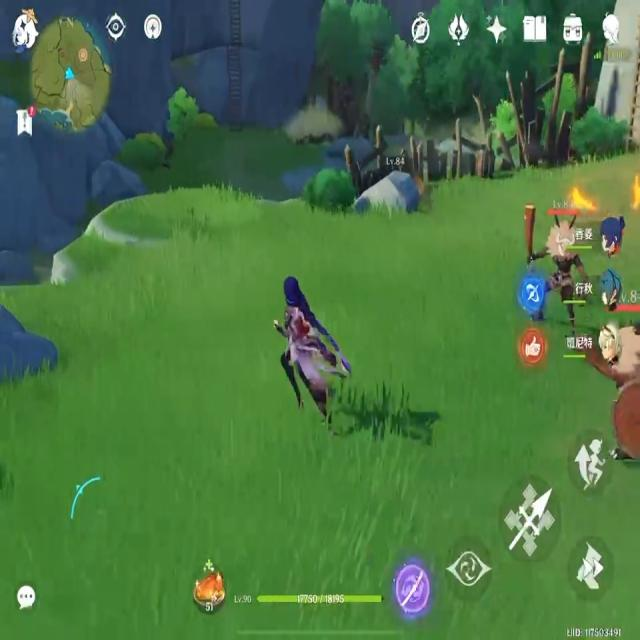genshin-hilichurls: (517, 183, 577, 277), (612, 322, 639, 486)
